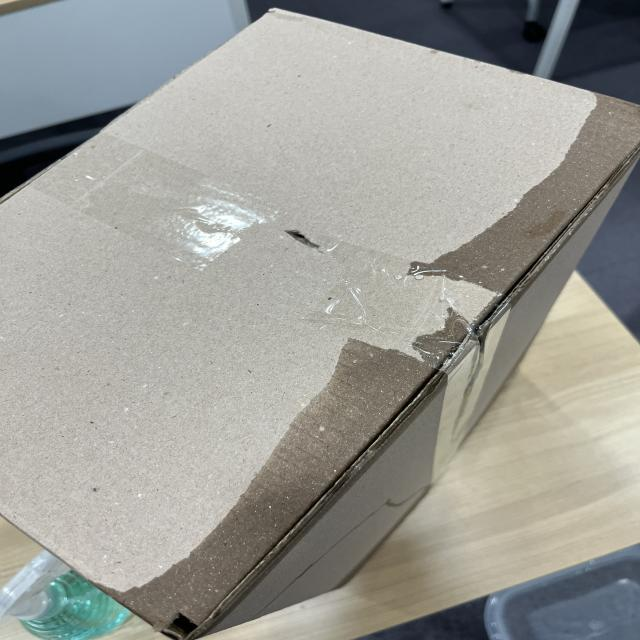wet: (103, 341, 428, 631), (411, 94, 639, 297)
